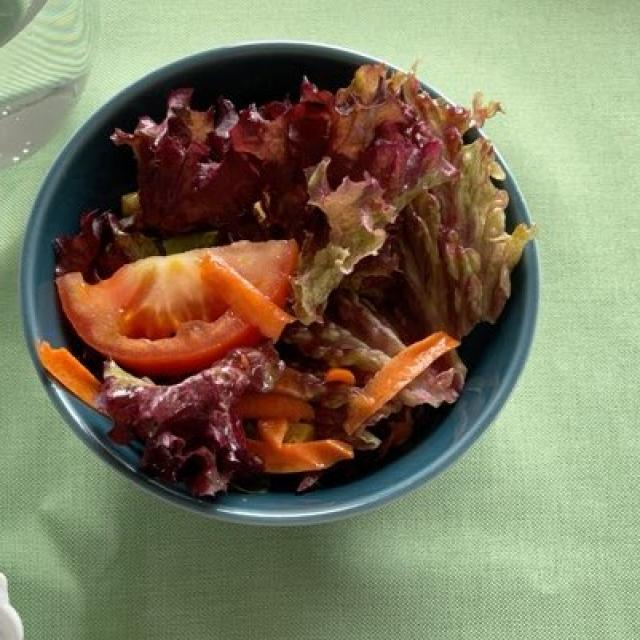salad-leaf-salad-green: (58, 74, 521, 492)
tomato-raw: (53, 246, 309, 362)
